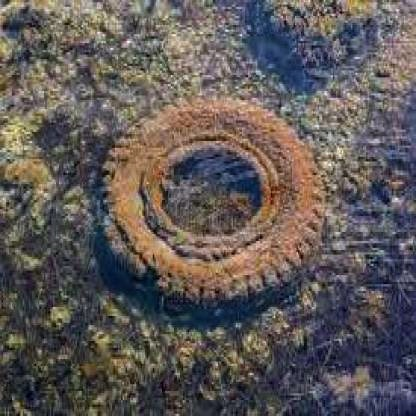tire: (68, 52, 339, 341)
